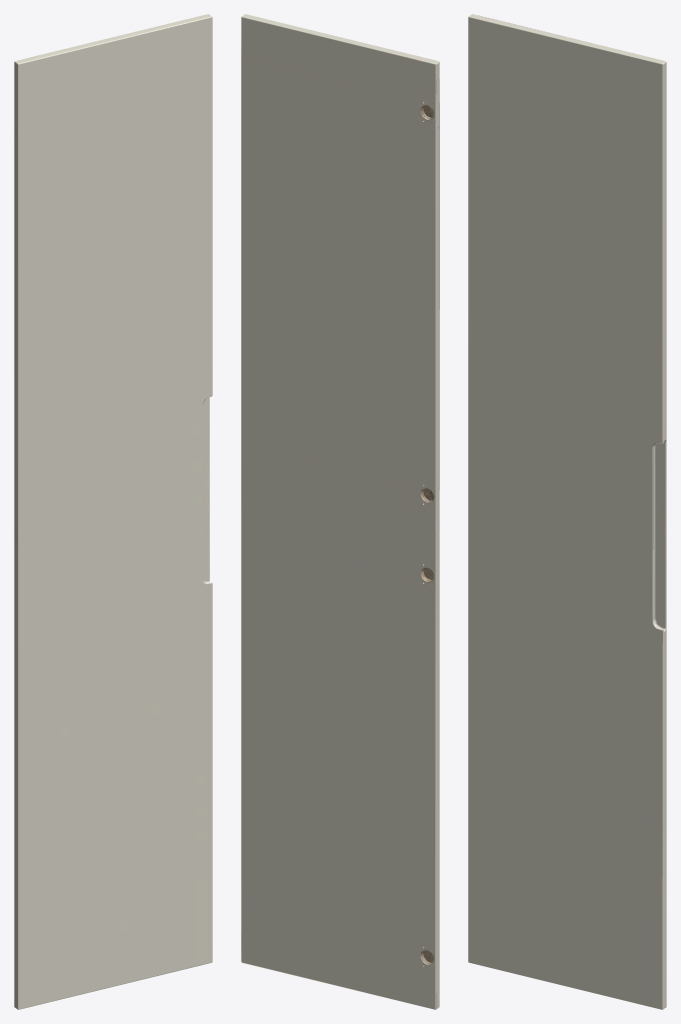
The model's file is 11 - TONSTAD Door - off-white 50x229 cm.glb.
3 views of the same model, side by side, from view 1: azimuth 30°, elevation 25°; view 2: azimuth 150°, elevation 25°; view 3: azimuth 330°, elevation 25° (orthographic).
Visible parts, largest first — view 1: ASY_ART_90510243_S01_NV01; view 2: ASY_ART_90510243_S01_NV01; view 3: ASY_ART_90510243_S01_NV01.
Boxes of the visible parts, x1=… form: ASY_ART_90510243_S01_NV01: x1=14, y1=14, x2=212, y2=1009; ASY_ART_90510243_S01_NV01: x1=241, y1=14, x2=439, y2=1009; ASY_ART_90510243_S01_NV01: x1=468, y1=14, x2=666, y2=1009.
Size of the model in its own units: 0.4954 by 2.29 by 0.018.
Materials: 1 (1 with a texture image).
